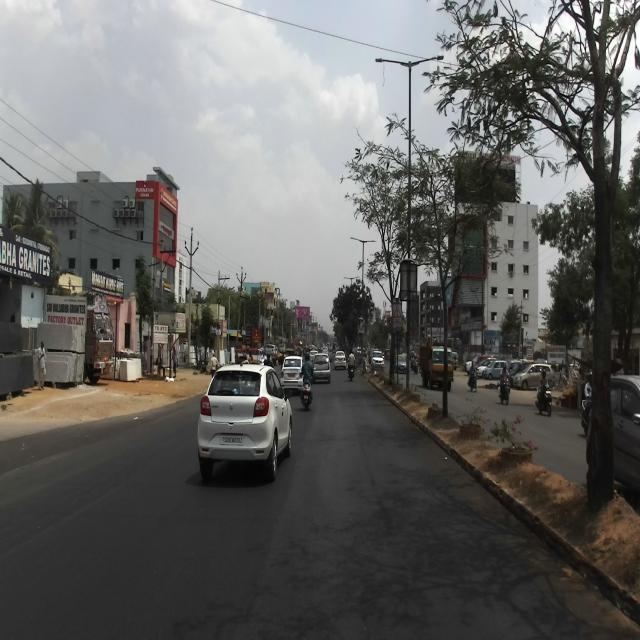car: (198, 359, 294, 481), (279, 354, 304, 395), (512, 364, 553, 389), (312, 352, 331, 386)
motorcycle: (497, 372, 512, 404)
scooter: (534, 375, 555, 417), (300, 368, 316, 409)
truck: (418, 333, 454, 389)
